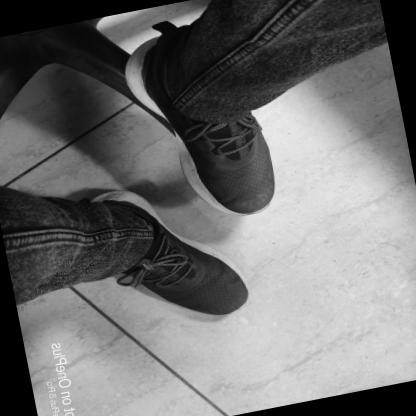ankle: (184, 96, 193, 105), (144, 218, 149, 223)
heel: (144, 43, 151, 48), (97, 198, 104, 203)
left_foot: (85, 171, 251, 337)
pinky: (267, 171, 272, 176), (216, 311, 220, 315)
right_foot: (119, 20, 281, 234)
toe: (236, 207, 243, 213), (239, 289, 246, 294)
